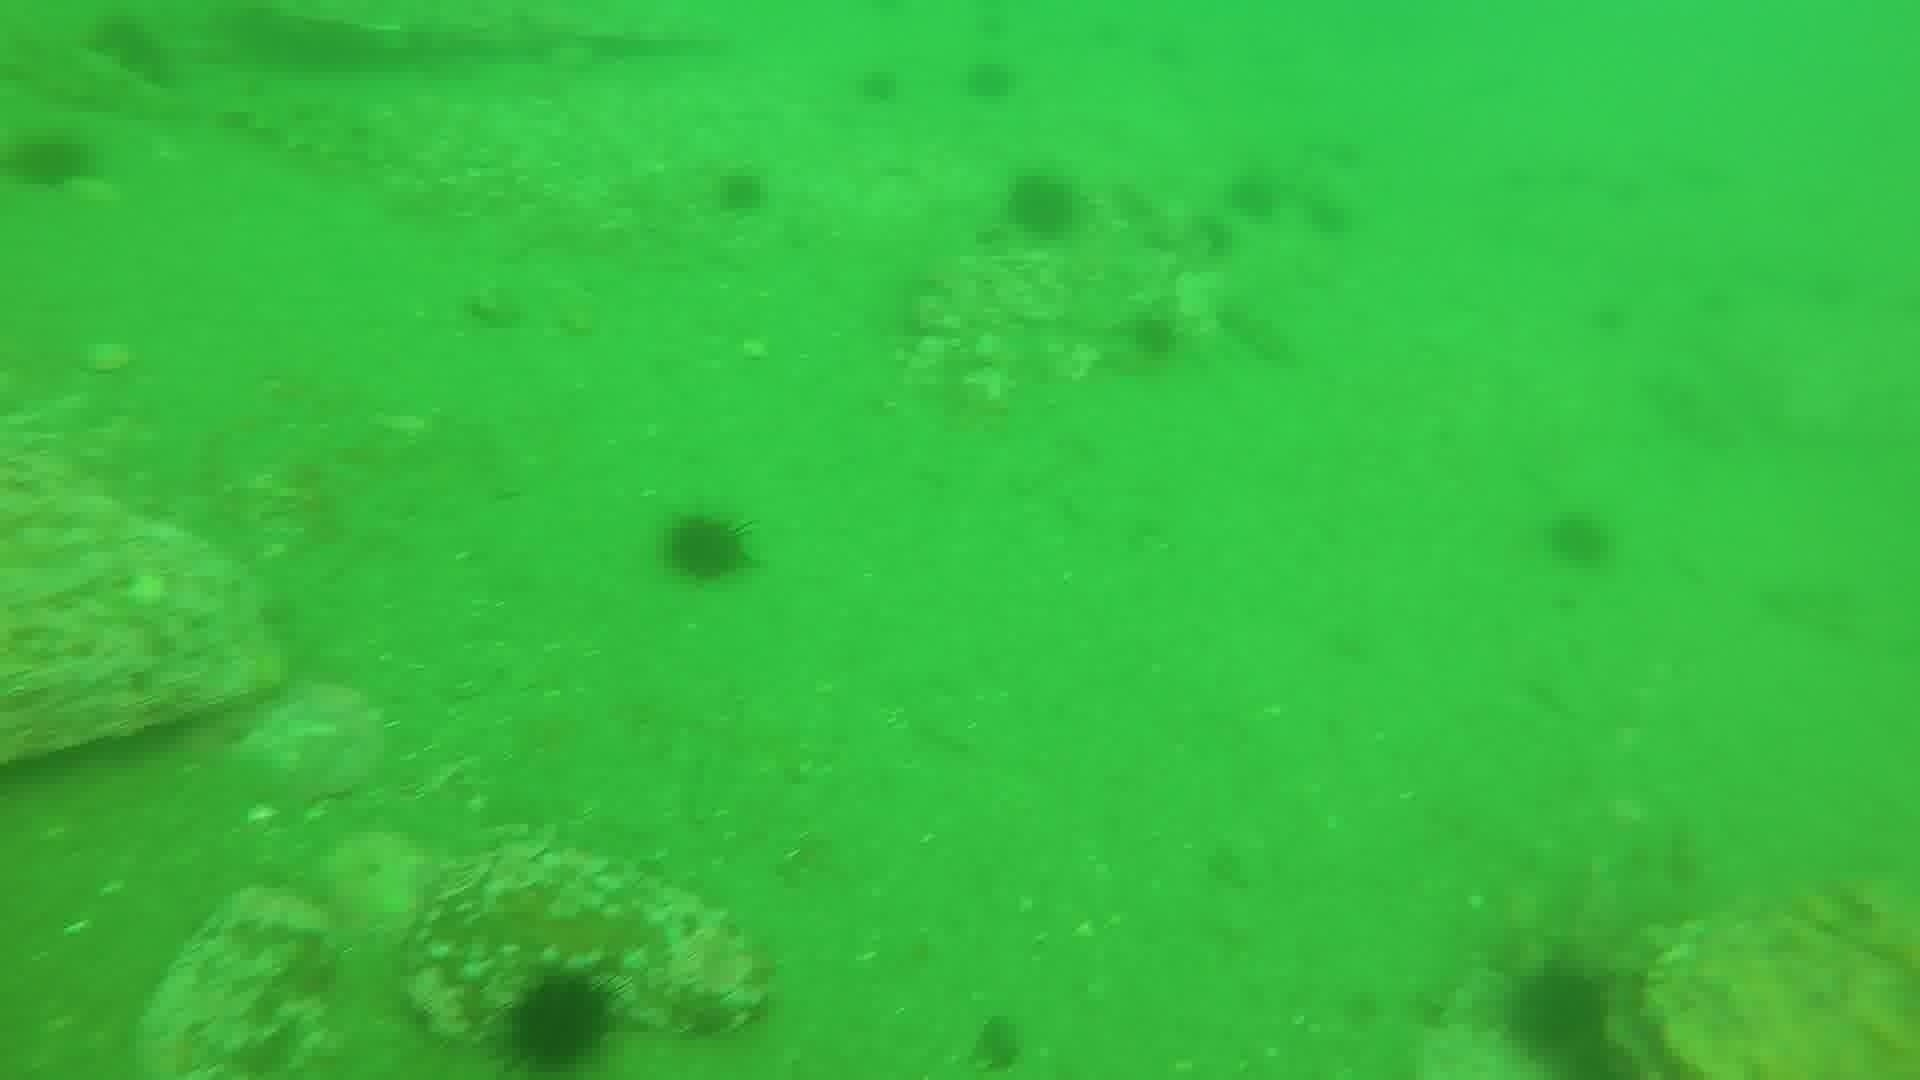echinus: (1501, 957, 1619, 1069), (498, 967, 621, 1069), (657, 508, 757, 589), (84, 13, 179, 94), (7, 127, 98, 196), (1001, 167, 1084, 244), (1540, 506, 1617, 574), (1189, 204, 1254, 265), (1121, 309, 1185, 368), (1087, 170, 1151, 229), (1222, 166, 1286, 225), (708, 164, 773, 220), (957, 54, 1023, 107), (1302, 190, 1360, 243), (852, 63, 905, 108)
holothurian: (190, 65, 388, 171), (1213, 297, 1302, 371)
